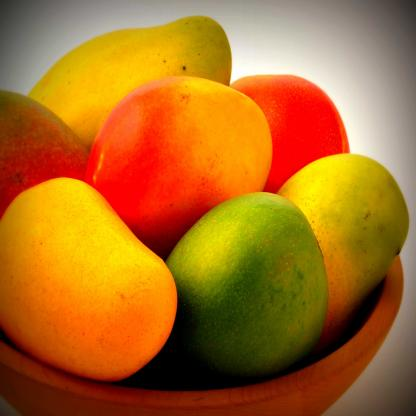--: (114, 184, 365, 412), (69, 40, 289, 251), (0, 155, 177, 391)
